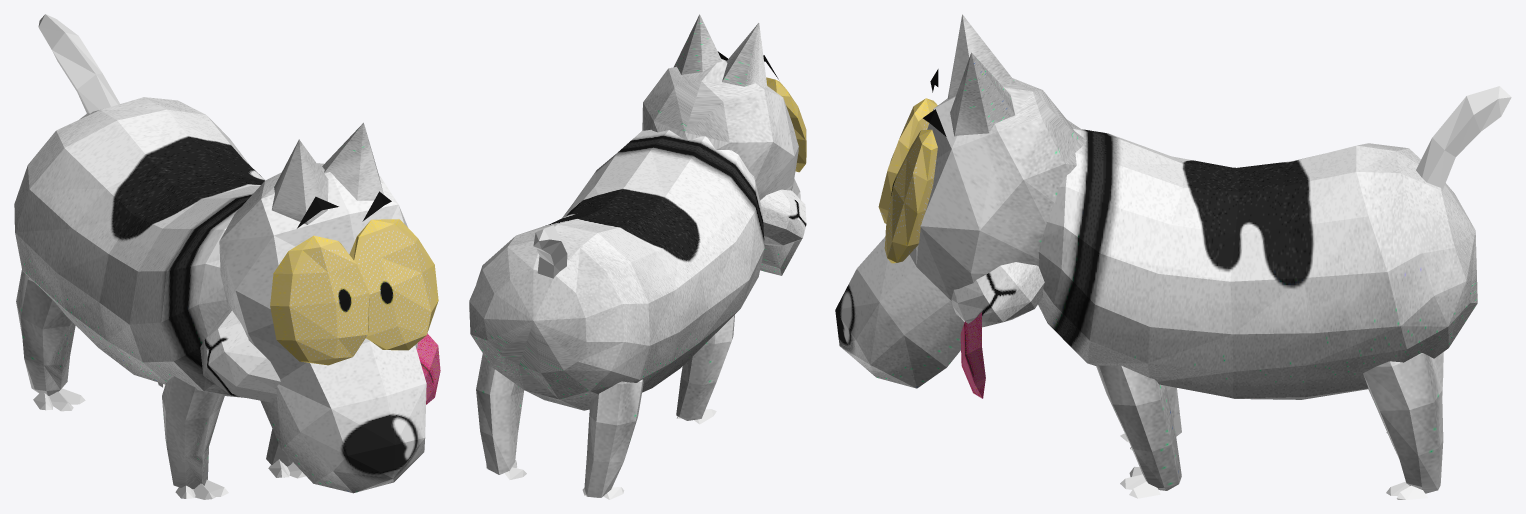
File: Spunky.dae
3 views of the same model, side by side, from view 1: azimuth 30°, elevation 25°; view 2: azimuth 150°, elevation 25°; view 3: azimuth 270°, elevation 25° (orthographic). The views are drawn at different scales.
Visible parts, largest first — view 1: part_09, part_00, part_06, part_01, part_24, part_15, part_02, part_28, part_08, part_07, part_03; view 2: part_09, part_00, part_15, part_10, part_24, part_02, part_08, part_07, part_28, part_06; view 3: part_09, part_00, part_10, part_20, part_01, part_02, part_28, part_07, part_08, part_06, part_03.
Boxes of the visible parts, x1,y1,x2,y2 form: part_09: (14, 97, 265, 397); part_00: (219, 163, 426, 493); part_06: (270, 235, 369, 365); part_01: (349, 219, 438, 350); part_24: (162, 376, 224, 489); part_15: (16, 270, 75, 395); part_02: (200, 309, 417, 402); part_28: (38, 14, 119, 113); part_08: (272, 139, 328, 224); part_07: (322, 122, 383, 200); part_03: (416, 333, 440, 404); part_09: (469, 129, 764, 410); part_00: (642, 59, 801, 275); part_15: (584, 379, 643, 497); part_10: (476, 353, 524, 474); part_24: (676, 315, 734, 420); part_02: (760, 189, 806, 246); part_08: (722, 23, 767, 89); part_07: (674, 14, 722, 74); part_28: (533, 225, 567, 278); part_06: (766, 77, 806, 172); part_09: (1038, 128, 1477, 399); part_00: (835, 78, 1086, 388); part_10: (1363, 353, 1443, 493); part_20: (1096, 365, 1181, 490); part_01: (884, 129, 937, 263); part_02: (951, 262, 1044, 327); part_28: (1416, 86, 1511, 189); part_07: (950, 52, 1014, 136); part_08: (947, 14, 1016, 99); part_06: (878, 98, 937, 223); part_03: (960, 312, 985, 398).
Bounding box in the file's own units: 3.21 × 5.6 × 7.86.
Materials: 29 (16 with a texture image).
